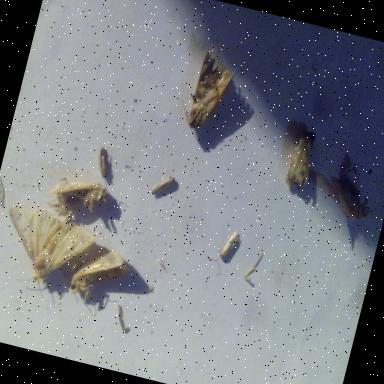abw: (0, 197, 101, 315), (171, 46, 241, 149), (296, 142, 378, 224), (58, 232, 138, 314), (41, 168, 114, 224), (277, 126, 324, 198)
